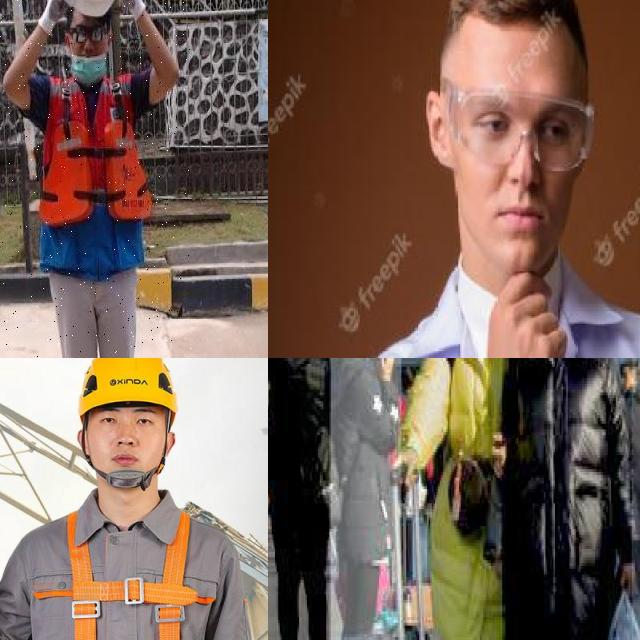Harness: (32, 502, 217, 640)
No_Ear-Protection: (424, 89, 457, 172)
face_nomask: (462, 102, 583, 258), (636, 363, 640, 395)
glasses: (438, 74, 590, 174)
hand_noglove: (483, 266, 572, 358)
head_nohelmet: (437, 0, 586, 53)
person: (324, 0, 640, 358), (0, 0, 191, 358), (502, 358, 633, 640), (390, 358, 516, 640), (330, 358, 401, 640), (268, 358, 330, 640), (620, 358, 640, 640)
vest: (36, 73, 149, 268)
